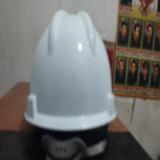Helmet: (24, 10, 117, 130)
